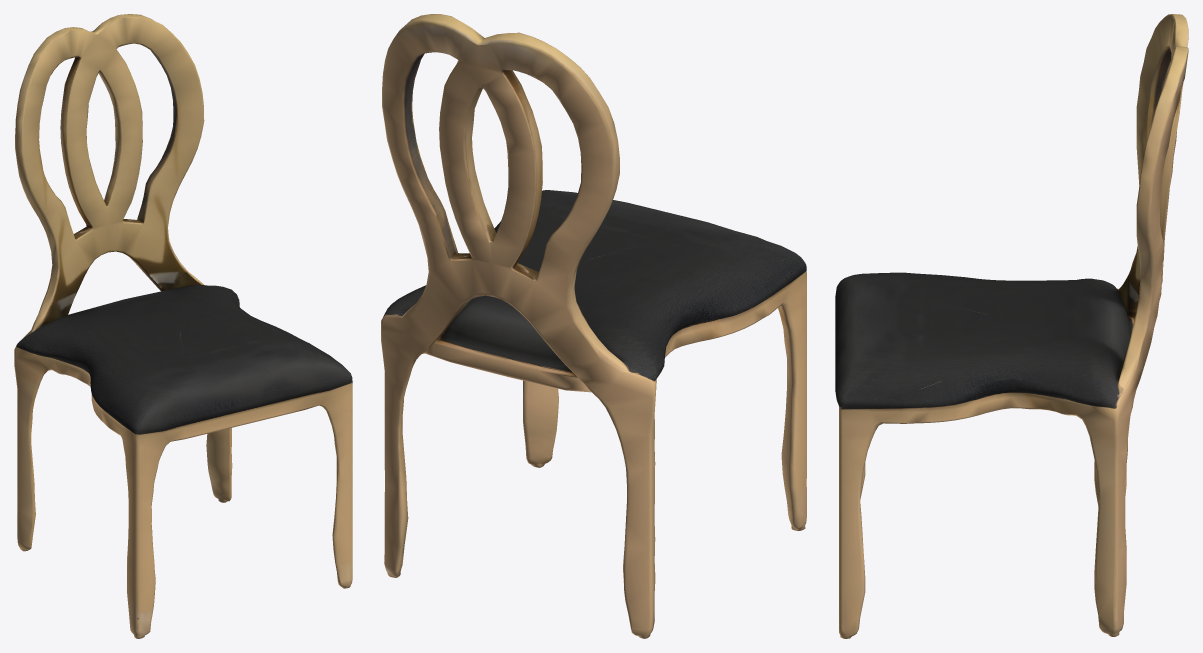
Rendered from Emma_Dining_Chair_G_0320031058_texture.glb.
3 renders of one model, left to right at view 1: azimuth 30°, elevation 25°; view 2: azimuth 150°, elevation 25°; view 3: azimuth 270°, elevation 25°, orthographic. The views are drawn at different scales.
Parts seen in each view (by area): view 1: Mesh_0.002; view 2: Mesh_0.002; view 3: Mesh_0.002.
Part boxes in pixels (x1,y1,x2,y2): Mesh_0.002: (14, 14, 352, 638); Mesh_0.002: (381, 14, 806, 638); Mesh_0.002: (835, 14, 1188, 638).
Bounding box in the file's own units: 0.4337 × 0.9144 × 0.5351.
1 material, 1 textured.
